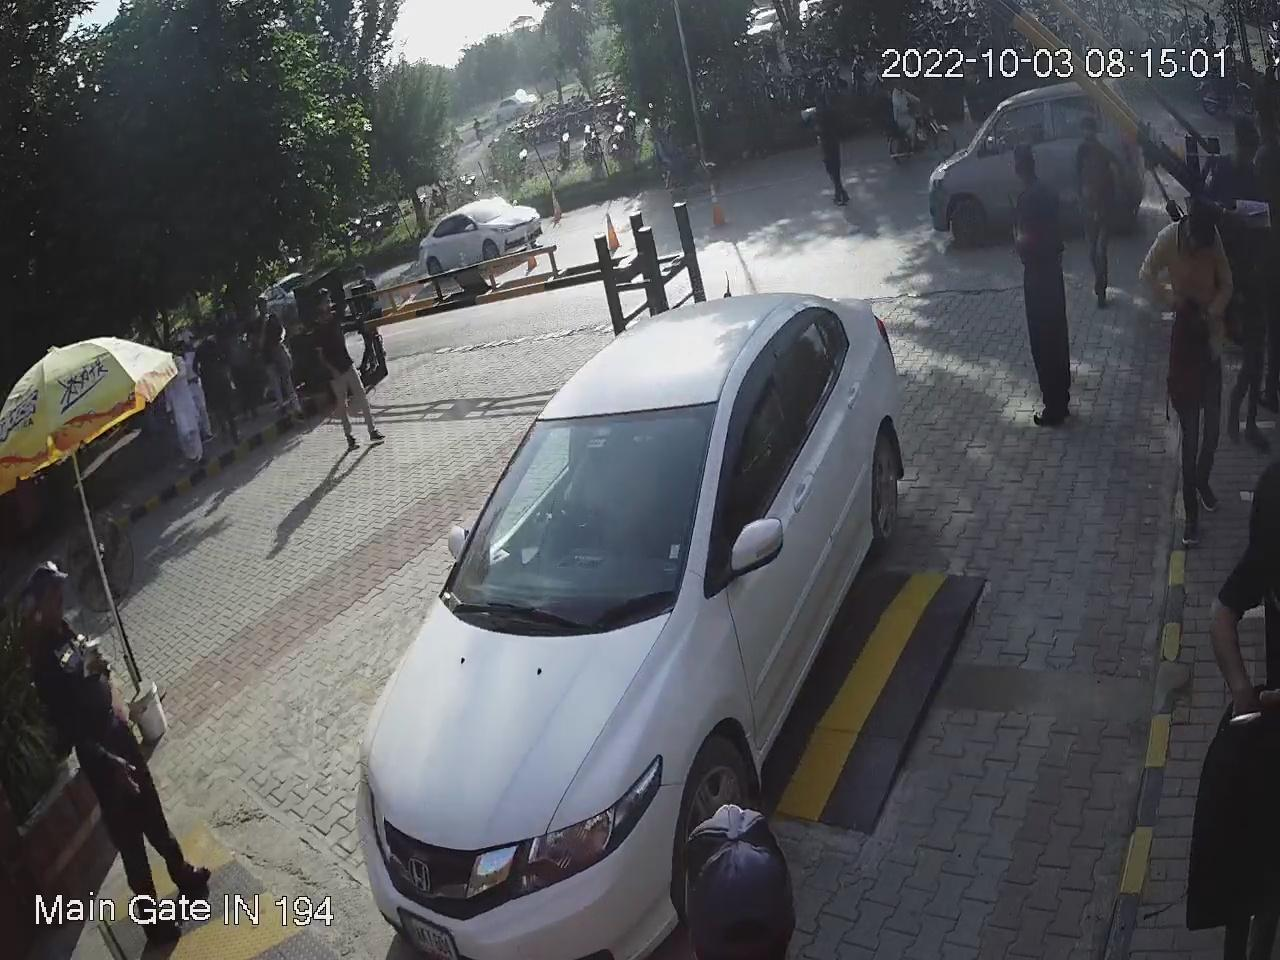windshield: (430, 390, 726, 650)
